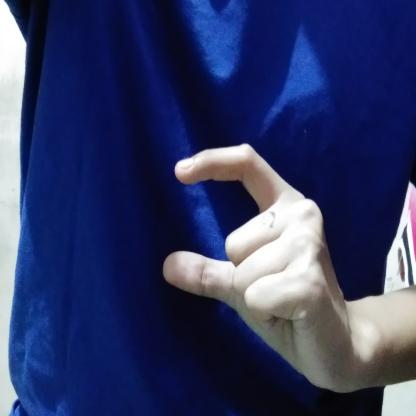small: (150, 141, 355, 397)
